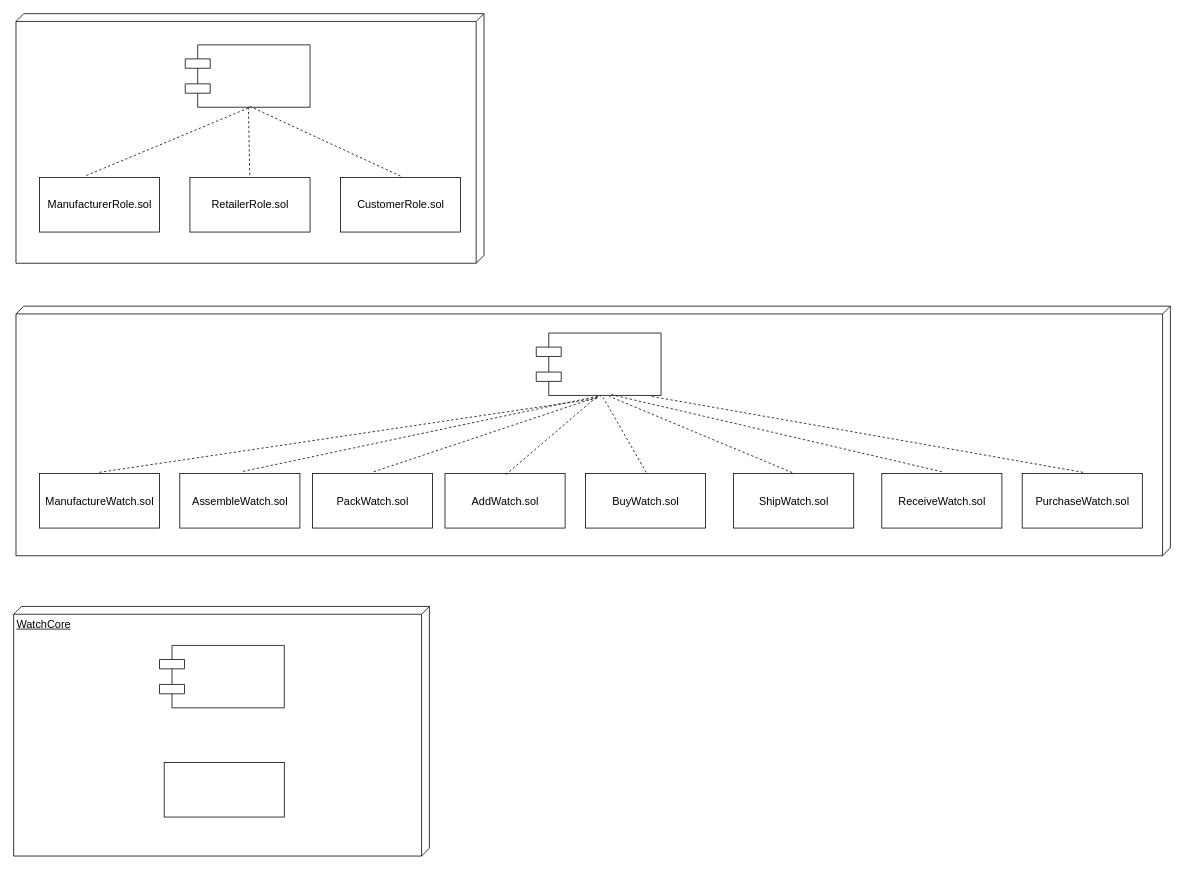
The diagram is 1184 pixels wide and 870 high, and some of its shapes have lost their labels. The box of each missing label's shape, as (x1, y1, x2, y2) in pixels:
Ownable.sol: (163, 762, 284, 817)
Roles.sol: (184, 44, 310, 107)
SupplyChain.sol: (535, 332, 661, 395)
ValueChain.sol: (159, 645, 284, 708)
WatchAccessControl: (15, 13, 484, 263)
WatchBase: (15, 305, 1170, 556)
